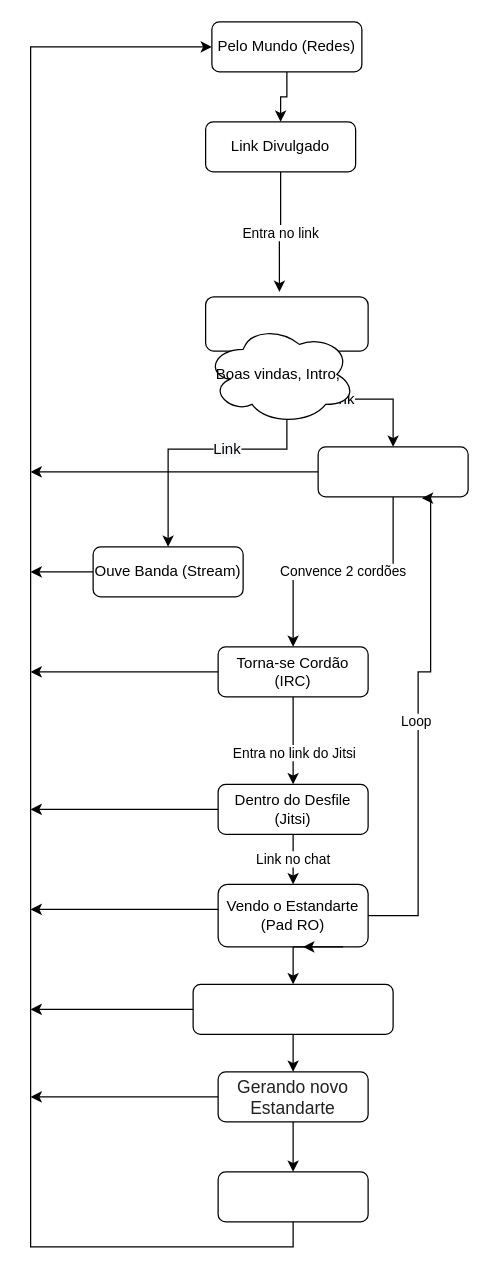
This 490x1279 diagram has some shape labels left out. The shapes that lost their labels are listed below. From the top down, each one's centre as x and y in pixels, then its label:
At point (286, 323): "Abre Cordão (Pad RO)".
At point (392, 471): "Entra no Papo (IRC)".
At point (292, 1008): "Sendo Estandarte (OP + Pad RW)".
At point (292, 1196): "Retorno ás Redes".
